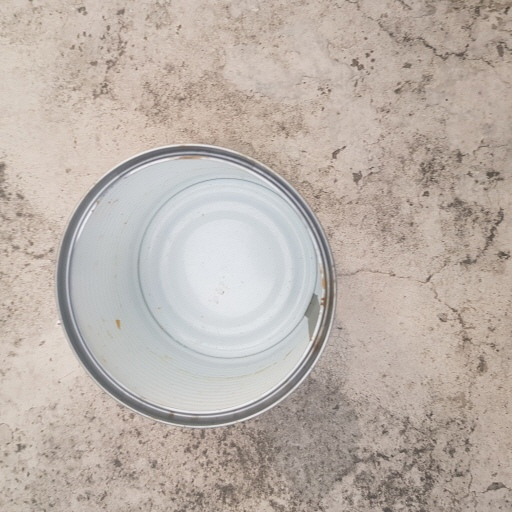Metal_1: (55, 144, 340, 432)
